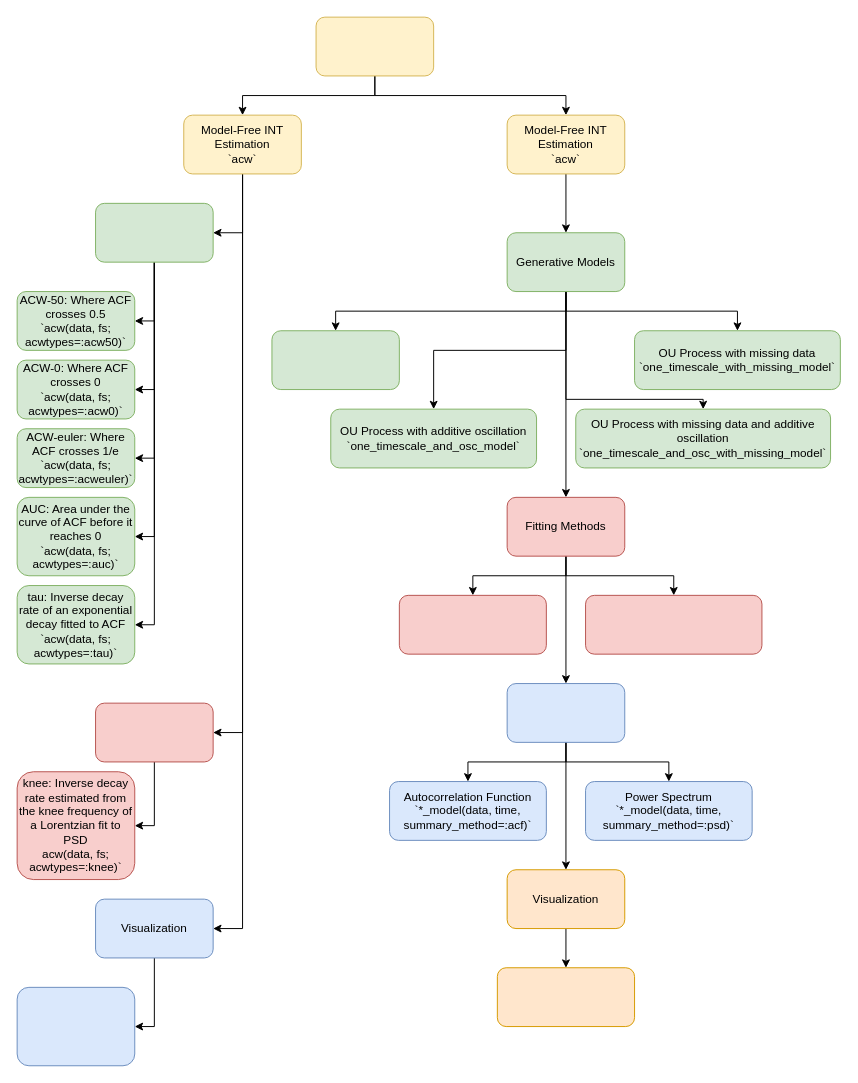
Image size: 858x1083. Some labels were removed from this diagram. The centre of each missing label's shape, as x and y in pixels:
Adaptive Approximate Bayesian Computation `*_model(data, time, :abc)`: (472,624)
Automatic Differentiation Variational Inference `*_model(data, time, :advi)`: (673,624)
From Autocorrelation Function: (154,232)
From Power Spectrum: (154,732)
IntrinsicTimescales.jl: (374,46)
OU Process `one_timescale_model`: (335,360)
Plot the autocorrelation function and/or power spectra `acwplot(acwresults)`: (75,1026)
Posterior Predictive Check `posterior_predictive`: (565,997)
Summary Statistics: (565,712)
